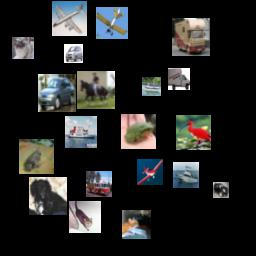airplane: (52, 1, 87, 36), (96, 7, 128, 39), (137, 159, 163, 185)
automobile: (38, 74, 76, 112), (64, 44, 83, 63), (213, 182, 229, 198)
bird: (176, 115, 211, 150)
cat: (69, 201, 101, 233), (122, 210, 151, 239), (12, 37, 34, 59)
dog: (29, 177, 67, 215)
frog: (121, 114, 156, 149), (19, 139, 54, 174)
ship: (65, 116, 97, 148), (173, 162, 199, 188), (142, 77, 161, 96)
truck: (172, 18, 210, 56), (86, 171, 112, 197), (168, 68, 190, 90)
